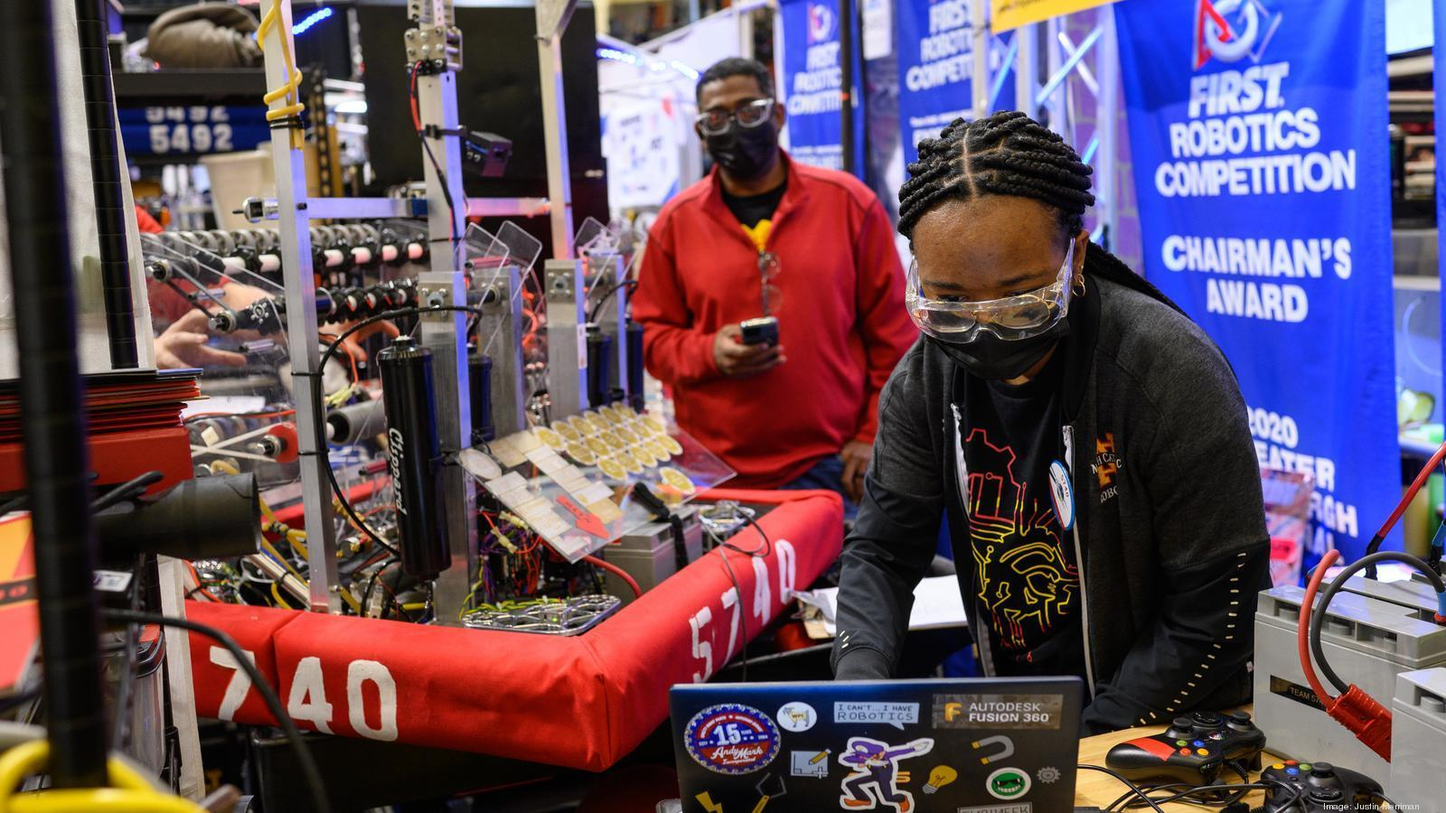robot: (119, 0, 859, 781)
